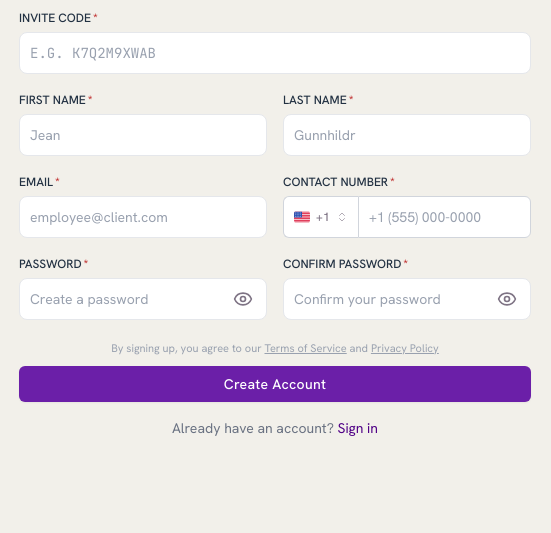
Test case: ClientSignupForm interactions › submitting an empty form surfaces field warnings
The width and height of the screenshot is (551, 533).
Click the button "Create Account": (275, 384) [19, 366, 531, 402]
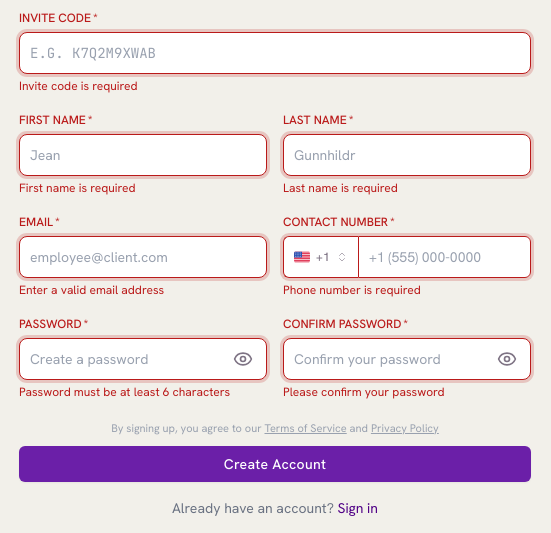
Now the text "Invite code is required" is shown, box [19, 78, 138, 94]
Now the text "First name is required" is shown, box [19, 180, 136, 196]
Now the text "Enter a valid email address" is shown, box [19, 282, 164, 298]
